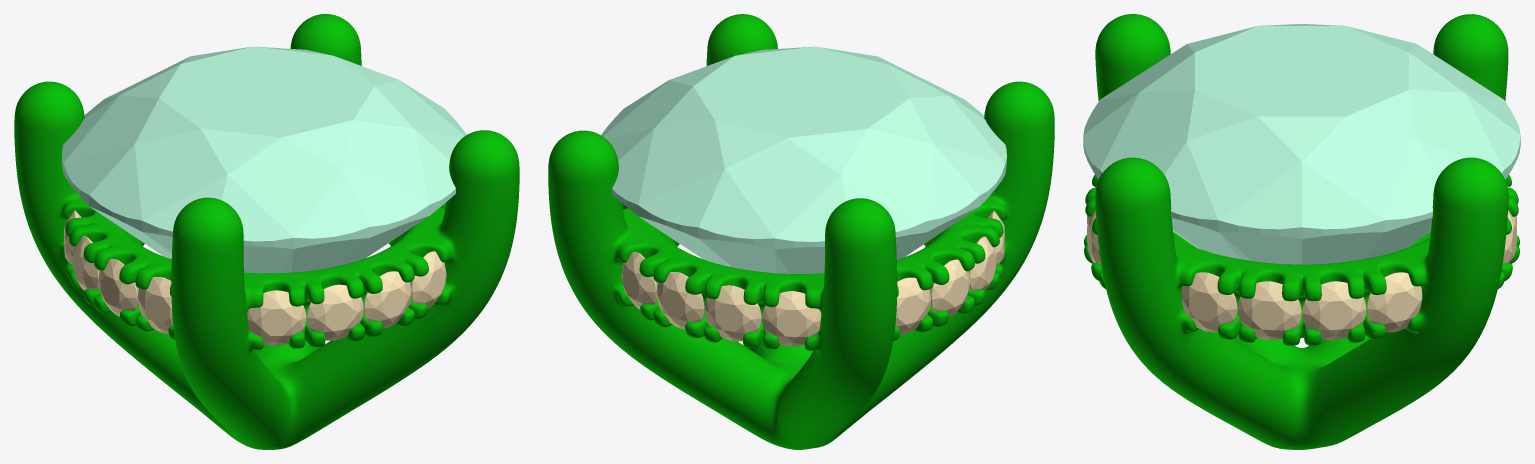
3 renders of one model, left to right at view 1: azimuth 30°, elevation 25°; view 2: azimuth 150°, elevation 25°; view 3: azimuth 270°, elevation 25°, orthographic. The views are drawn at different scales.
Visible parts, largest first — view 1: Metal01, CS_Diamond, Diamond_Round, Diamond_Round.001, Diamond_Round.002, Diamond_Round.014, Diamond_Round.015, Diamond_Round.003, Diamond_Round.013; view 2: Metal01, CS_Diamond, Diamond_Round.010, Diamond_Round.011, Diamond_Round.009, Diamond_Round.012, Diamond_Round.013, Diamond_Round.008, Diamond_Round.015; view 3: CS_Diamond, Metal01, Diamond_Round.005, Diamond_Round.007, Diamond_Round.004, Diamond_Round.006, Diamond_Round.009, Diamond_Round.002.
Boxes of the visible parts, <box> form: Metal01: <box>14,14,519,449</box>; CS_Diamond: <box>62,46,466,273</box>; Diamond_Round: <box>247,290,306,345</box>; Diamond_Round.001: <box>306,284,363,340</box>; Diamond_Round.002: <box>363,271,411,328</box>; Diamond_Round.014: <box>137,277,173,333</box>; Diamond_Round.015: <box>98,259,138,316</box>; Diamond_Round.003: <box>410,251,446,308</box>; Diamond_Round.013: <box>72,236,99,290</box>; Metal01: <box>548,14,1054,449</box>; CS_Diamond: <box>601,46,1006,273</box>; Diamond_Round.010: <box>762,291,821,346</box>; Diamond_Round.011: <box>704,285,761,341</box>; Diamond_Round.009: <box>656,272,704,329</box>; Diamond_Round.012: <box>895,277,931,334</box>; Diamond_Round.013: <box>929,259,970,317</box>; Diamond_Round.008: <box>621,252,657,309</box>; Diamond_Round.015: <box>969,236,995,291</box>; CS_Diamond: <box>1083,24,1520,264</box>; Metal01: <box>1084,14,1519,449</box>; Diamond_Round.005: <box>1237,281,1301,340</box>; Diamond_Round.007: <box>1302,281,1366,340</box>; Diamond_Round.004: <box>1181,272,1237,332</box>; Diamond_Round.006: <box>1366,272,1422,332</box>; Diamond_Round.009: <box>1502,210,1516,264</box>; Diamond_Round.002: <box>1087,210,1101,264</box>.
Size of the model in its own units: 7.45 by 6.93 by 7.45.
